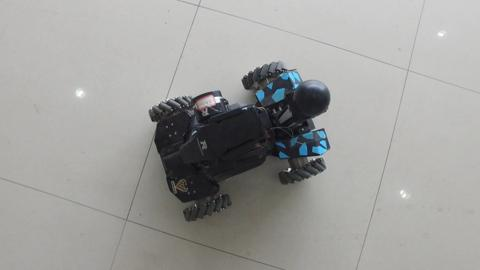chariot: (144, 52, 331, 223)
